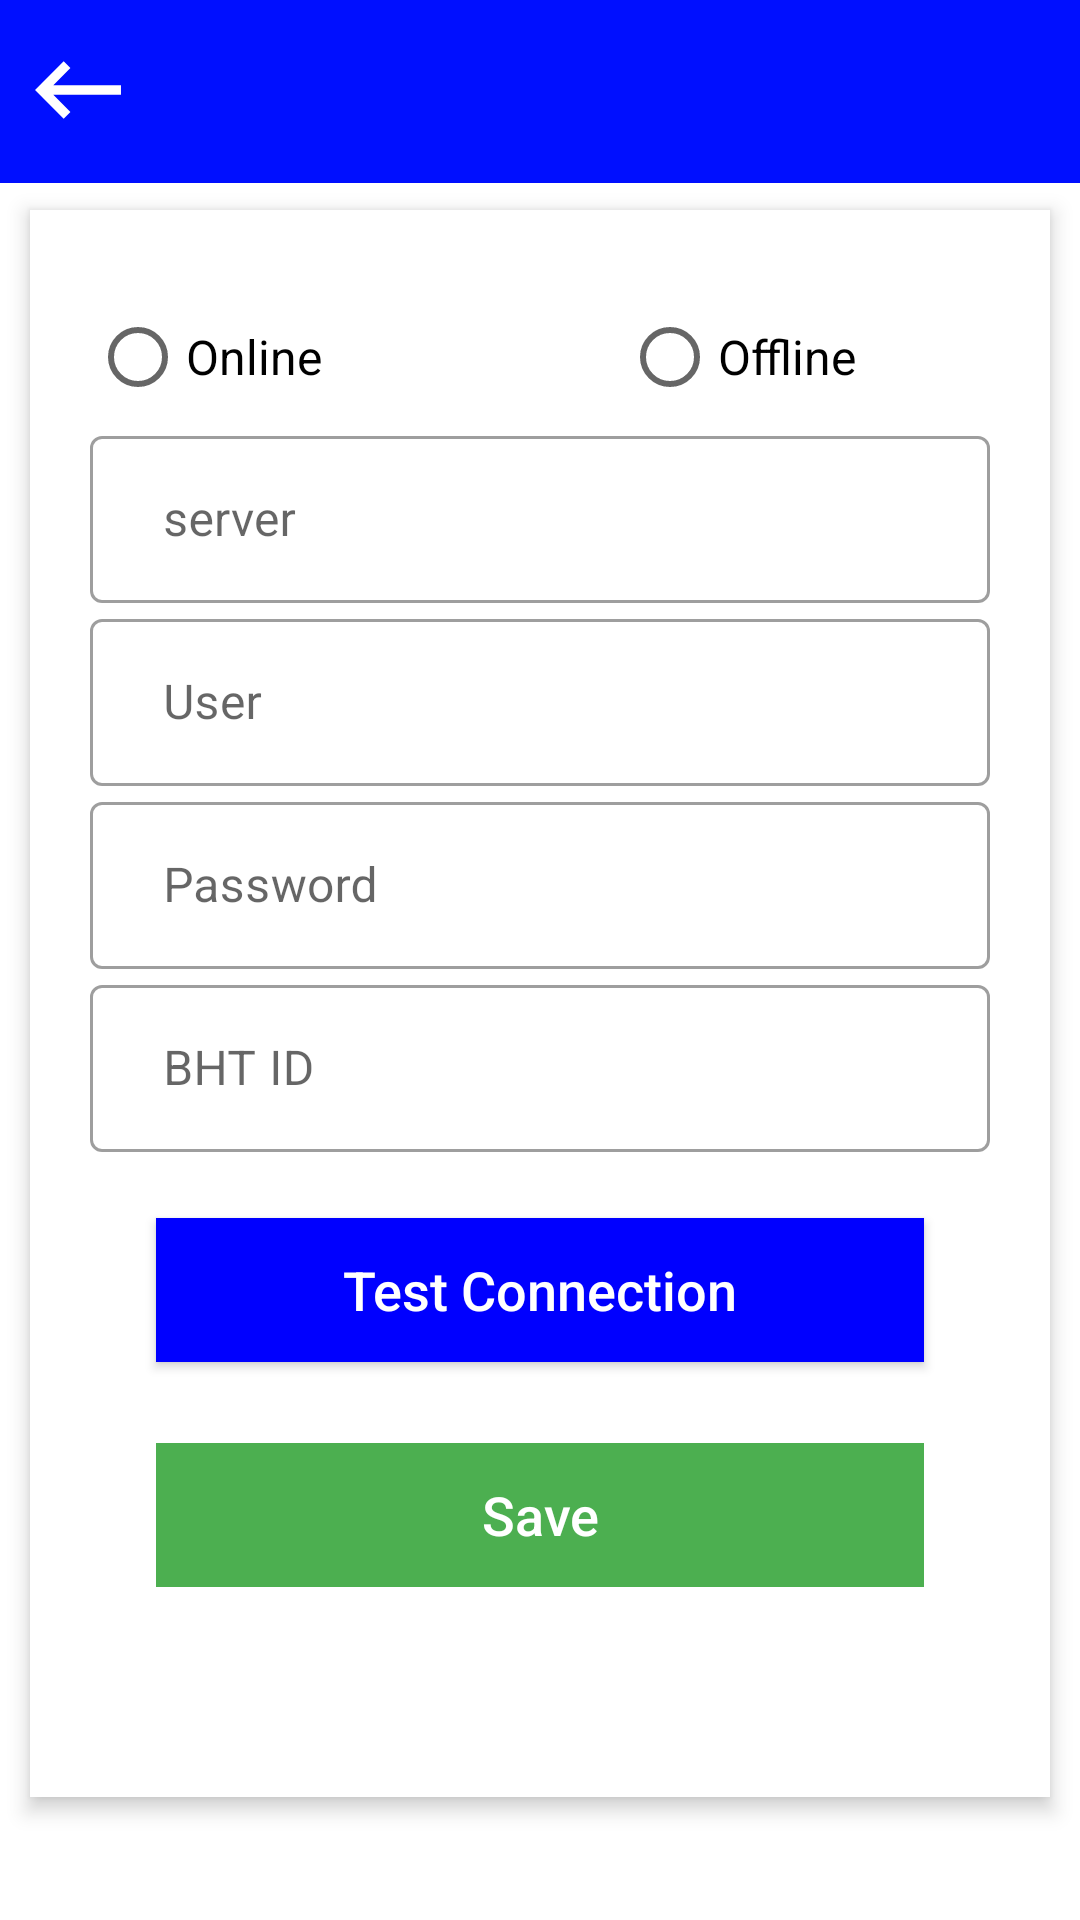

Named icons in this screenshot (1080x1920) and their centers, (x,y):
back: (78,90)
